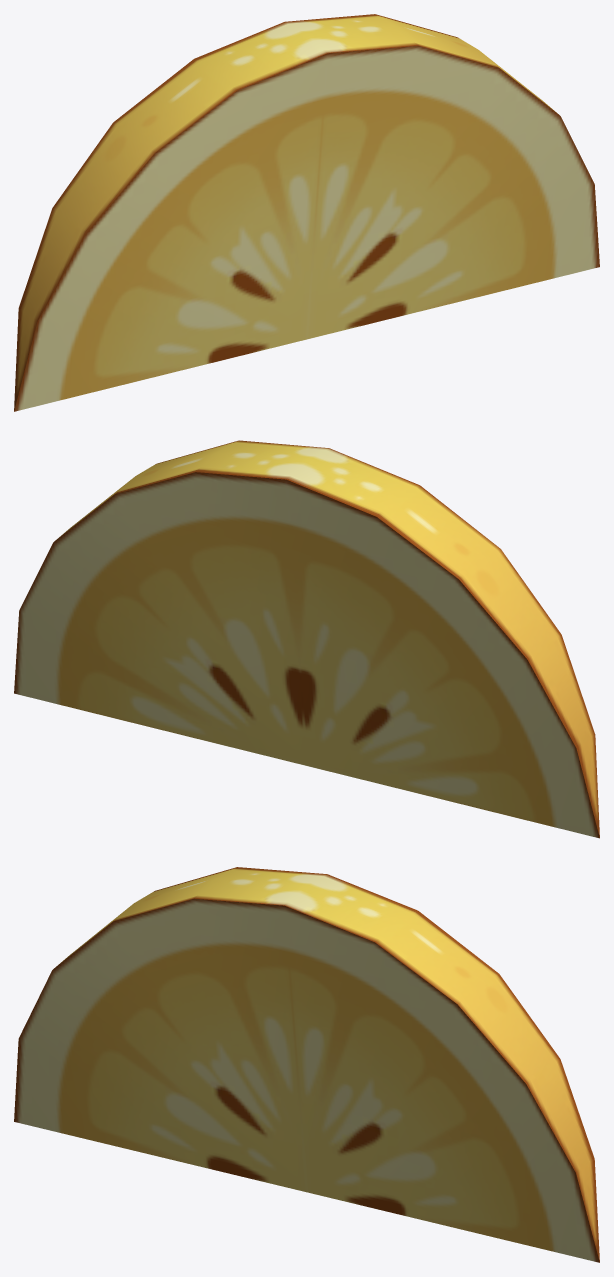
File: Plate And Food Lemon.glb
3 views of the same model, one above another, from view 1: azimuth 30°, elevation 25°; view 2: azimuth 150°, elevation 25°; view 3: azimuth 330°, elevation 25° (orthographic).
Visible parts, largest first — view 1: SkillObj_Vesna_PlateAndFood_Lemon_LOD0; view 2: SkillObj_Vesna_PlateAndFood_Lemon_LOD0; view 3: SkillObj_Vesna_PlateAndFood_Lemon_LOD0.
Boxes of the visible parts, x1,y1,x2,y2 form: SkillObj_Vesna_PlateAndFood_Lemon_LOD0: (14, 14, 599, 411); SkillObj_Vesna_PlateAndFood_Lemon_LOD0: (14, 440, 599, 838); SkillObj_Vesna_PlateAndFood_Lemon_LOD0: (14, 867, 599, 1262).
Bounding box in the file's own units: 0.0809 × 0.0405 × 0.0103.
1 material, 1 textured.
